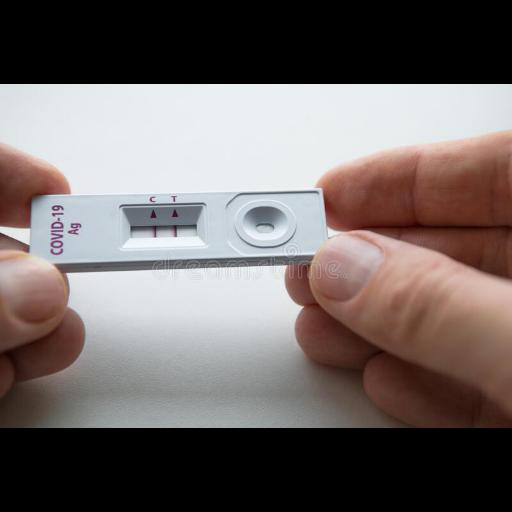Pos: (30, 186, 329, 265)
